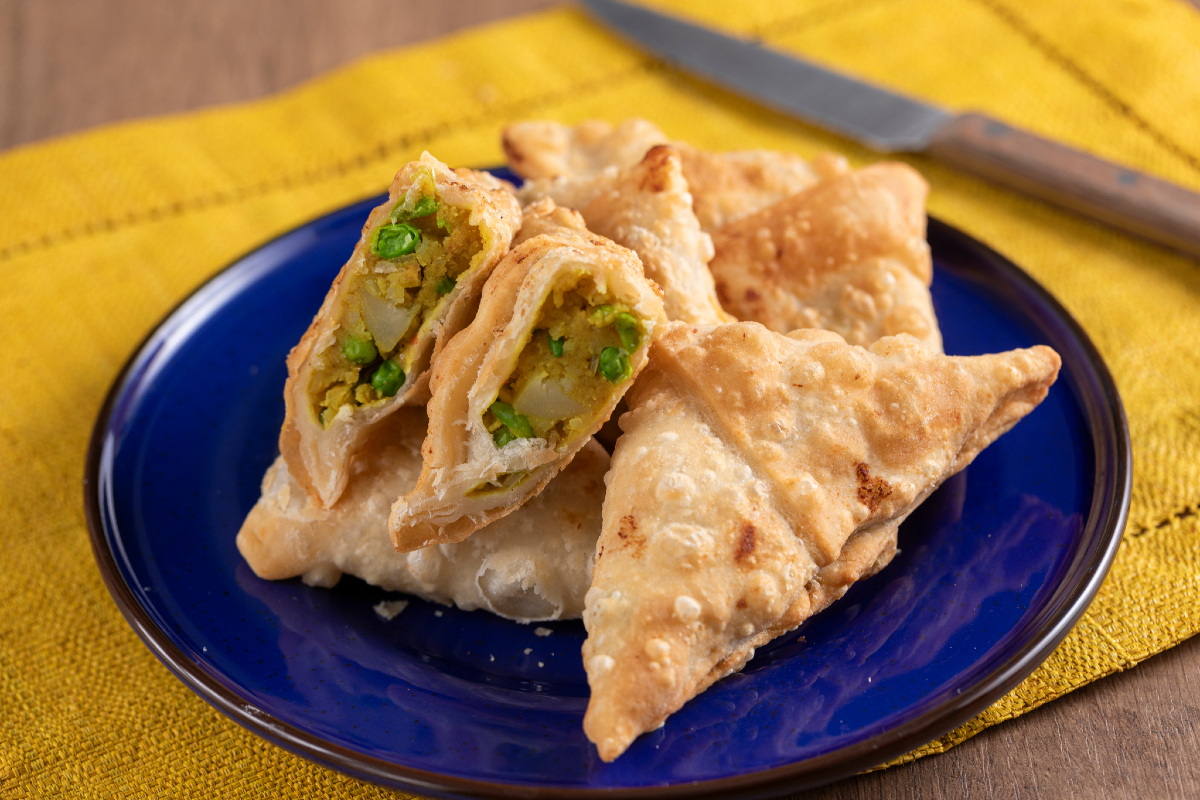samosa: (602, 336, 1066, 754), (272, 168, 648, 524), (756, 156, 946, 302)
